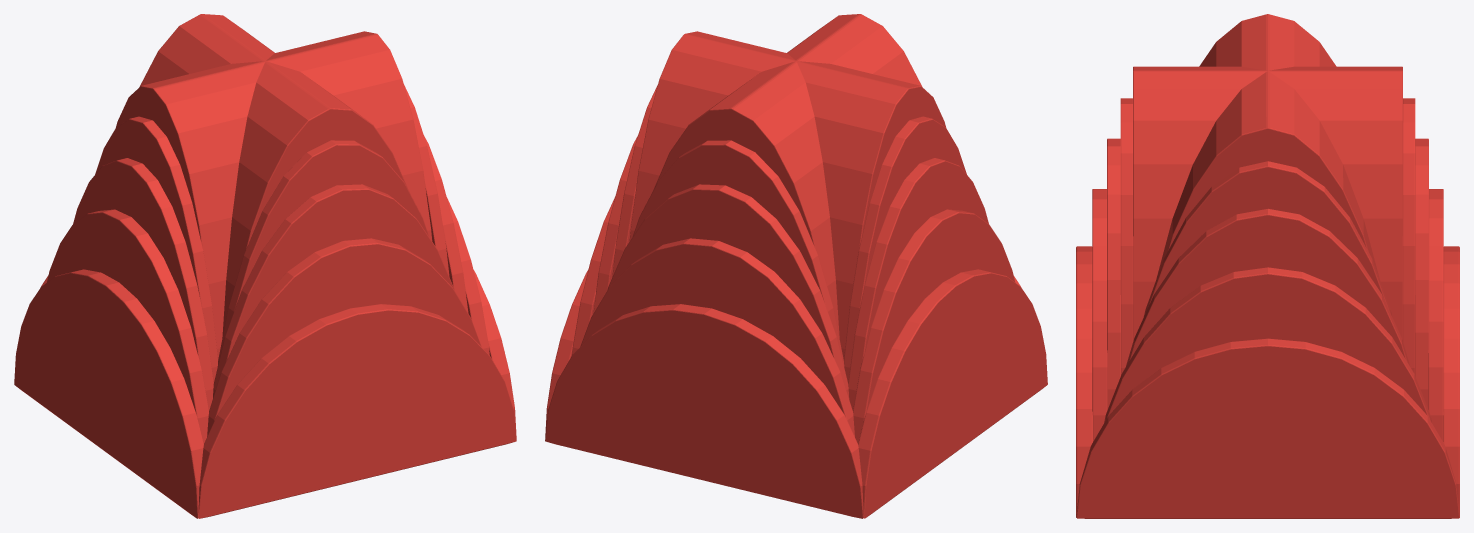
Rendered from roof.fbx.
3 renders of one model, left to right at view 1: azimuth 30°, elevation 25°; view 2: azimuth 150°, elevation 25°; view 3: azimuth 270°, elevation 25°, orthographic. The views are drawn at different scales.
Parts seen in each view (by area): view 1: Circle.007; view 2: Circle.007; view 3: Circle.007.
Part boxes in pixels (<box>): Circle.007: <box>14,14,516,518</box>; Circle.007: <box>545,14,1047,518</box>; Circle.007: <box>1076,14,1459,518</box>.
Bounding box in the file's own units: 6855 × 7226 × 6845.
